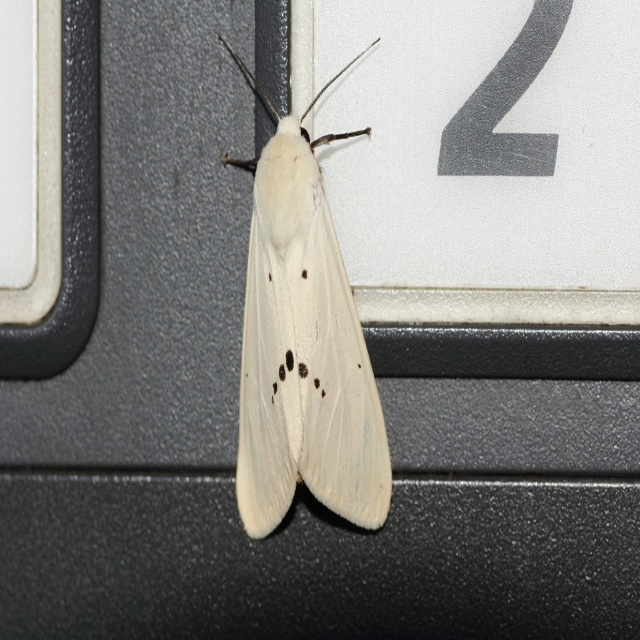Moths and butterflies: (210, 23, 396, 561)
